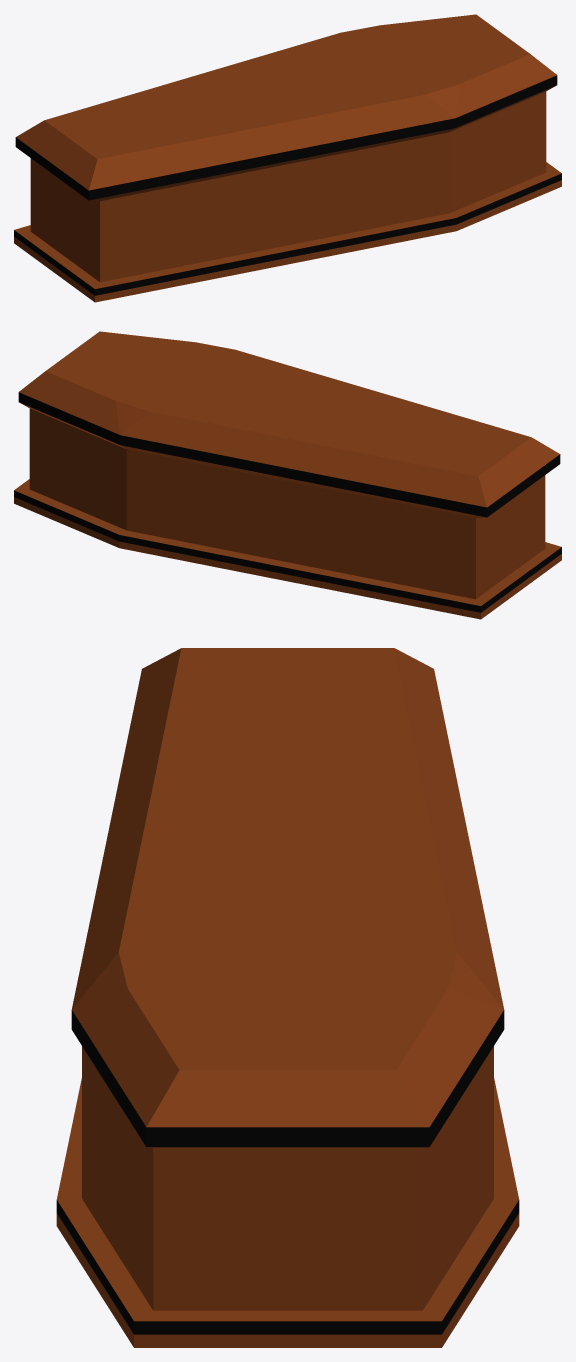
Rendered from coffin.fbx.
3 views of the same model, one above another, from view 1: azimuth 30°, elevation 25°; view 2: azimuth 150°, elevation 25°; view 3: azimuth 270°, elevation 25° (orthographic). The views are drawn at different scales.
Parts seen in each view (by area): view 1: Coffin; view 2: Coffin; view 3: Coffin.
Part boxes in pixels (x1=…): Coffin: x1=14, y1=14, x2=561, y2=302; Coffin: x1=14, y1=331, x2=561, y2=619; Coffin: x1=56, y1=648, x2=519, y2=1347.
Size of the model in its own units: 275 by 72.03 by 117.
